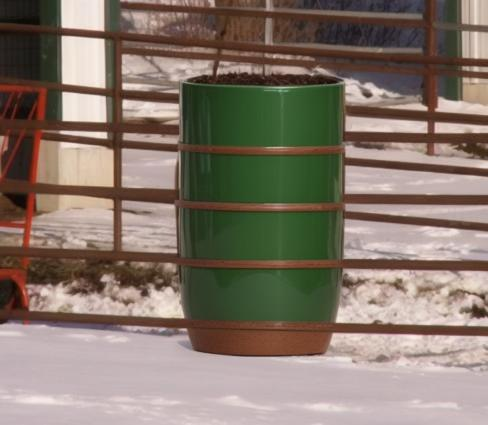horse: (176, 139, 294, 353)
pottedplant: (176, 74, 345, 356)
